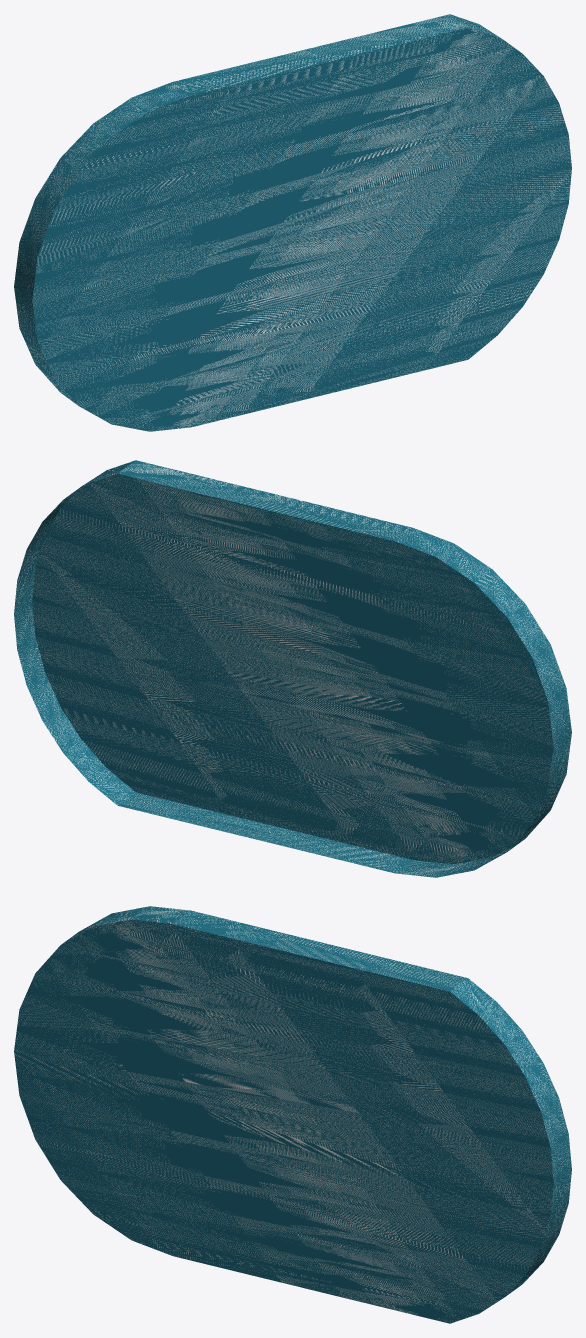
File: original-12.obj
The picture shows the model from 3 angles, top to bottom: view 1: azimuth 30°, elevation 25°; view 2: azimuth 150°, elevation 25°; view 3: azimuth 330°, elevation 25°; orthographic projection.
Visible parts, largest first — view 1: #ID60; view 2: #ID60; view 3: #ID60.
Boxes of the visible parts, bbox=[...] form: #ID60: bbox=[14, 14, 571, 431]; #ID60: bbox=[14, 460, 571, 877]; #ID60: bbox=[14, 906, 571, 1323].
Size of the model in its own units: 0.0504 by 0.0296 by 0.00296.
